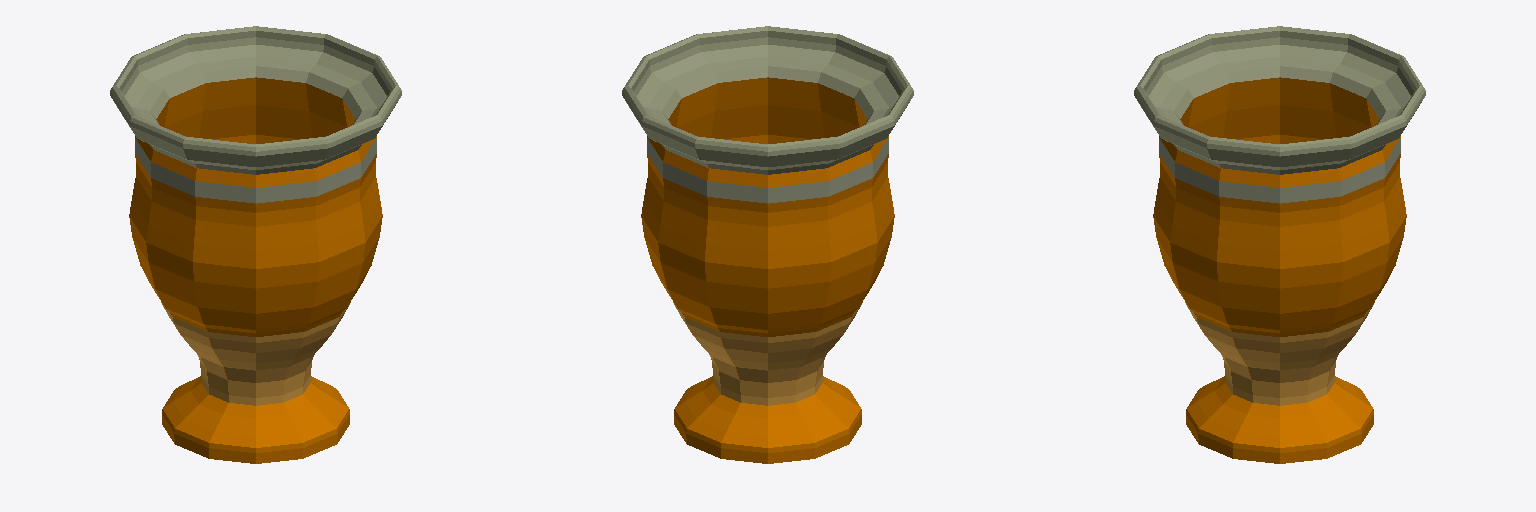
The model's file is cuia.obj.
3 renders of one model, left to right at view 1: azimuth 30°, elevation 25°; view 2: azimuth 150°, elevation 25°; view 3: azimuth 270°, elevation 25°, orthographic.
Visible parts, largest first — view 1: Curve_Mesh; view 2: Curve_Mesh; view 3: Curve_Mesh.
Part boxes in pixels (bbox=[...]): Curve_Mesh: bbox=[110, 26, 401, 463]; Curve_Mesh: bbox=[622, 26, 913, 463]; Curve_Mesh: bbox=[1134, 26, 1425, 463].
Bounding box in the file's own units: 9.45 × 12.16 × 9.45.